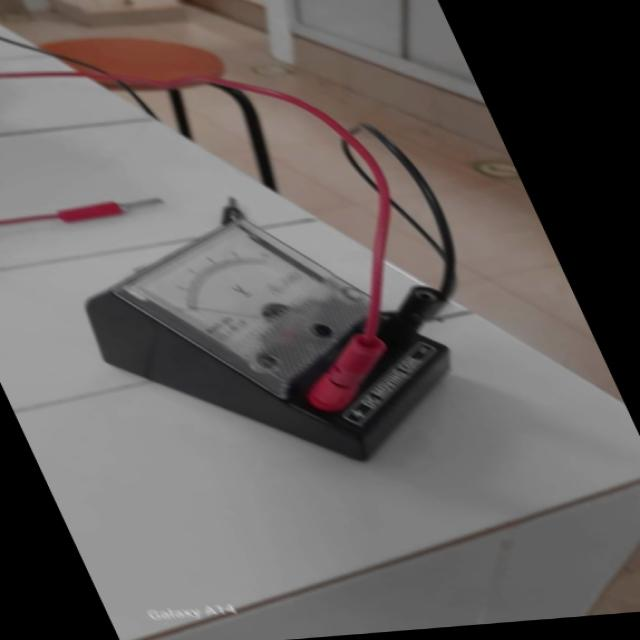Voltmeter: (32, 175, 589, 486)
